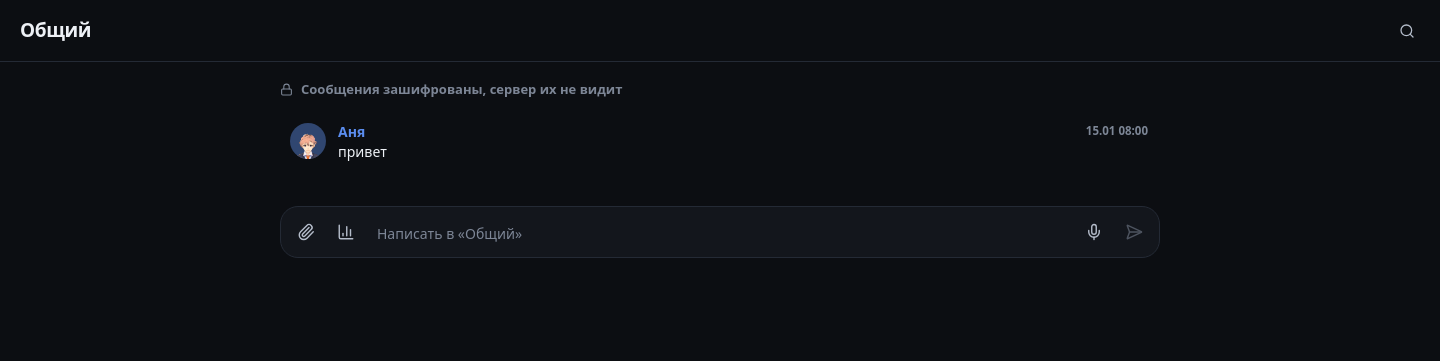
Test case: search › the magnifier opens it too, and says when nothing is found
Click the button named "Поиск". click: (1407, 30)
box: [1388,12,1426,50]
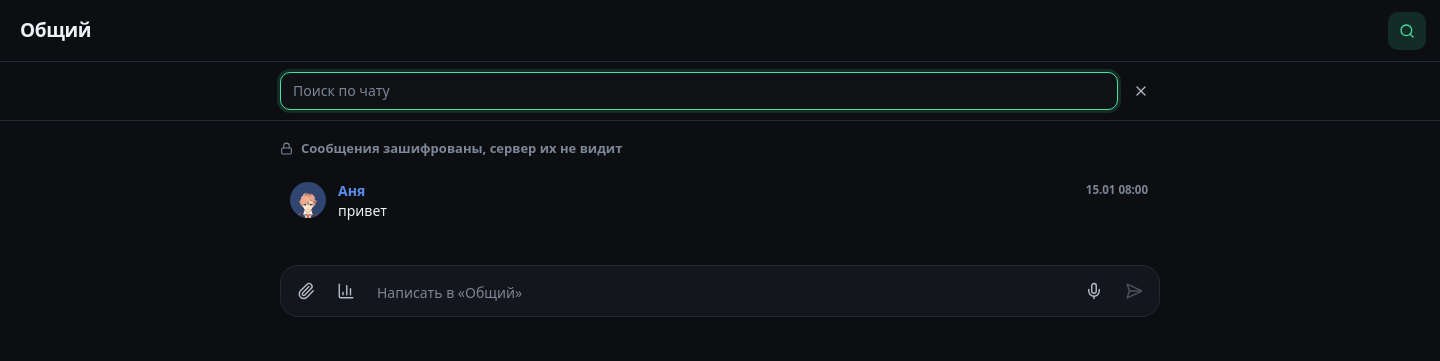
Type "пока" into the search field labelled "Поиск по чату". click: (699, 91)
box: [280,72,1118,110]
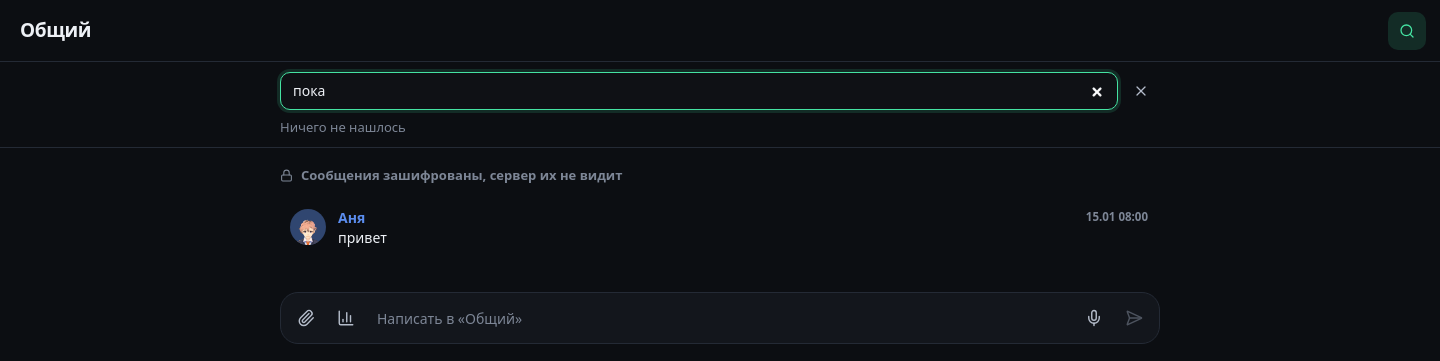
expect the text "Ничего не нашлось" is shown: met, box [280,118,406,136]
